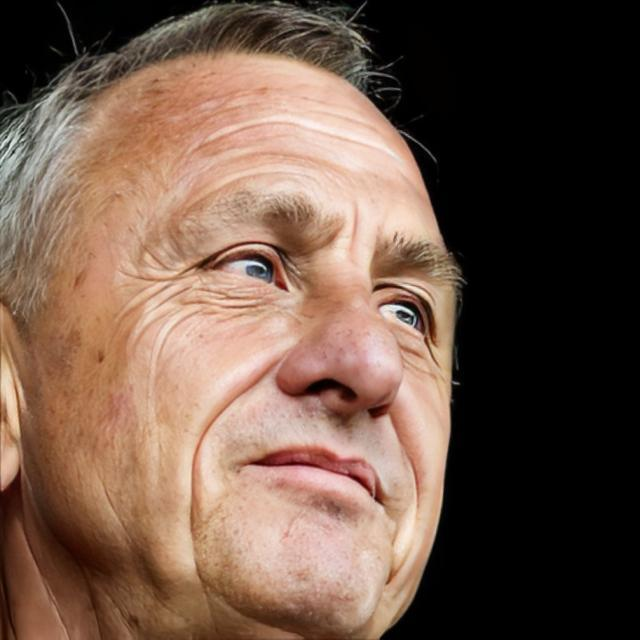disgust: (21, 41, 462, 640)
